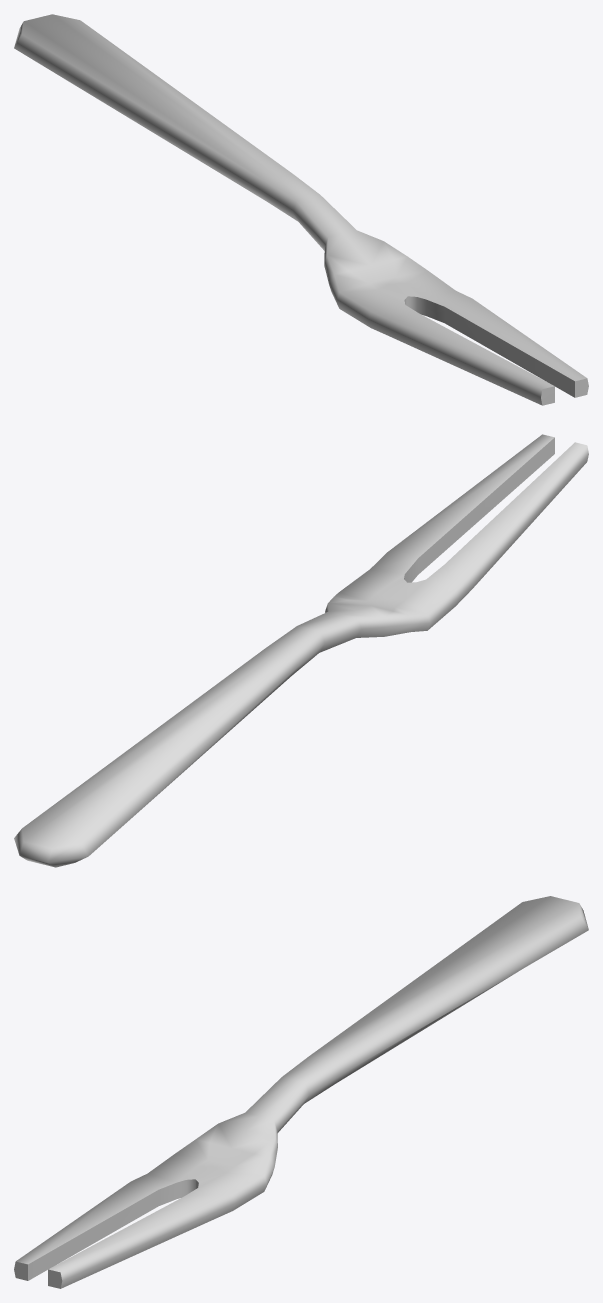
File: FruitFork_01.fbx
The picture shows the model from 3 angles, top to bottom: view 1: azimuth 30°, elevation 25°; view 2: azimuth 150°, elevation 25°; view 3: azimuth 330°, elevation 25°; orthographic projection.
Parts seen in each view (by area): view 1: FruitFork_01; view 2: FruitFork_01; view 3: FruitFork_01.
Part boxes in pixels (bbox=[...]): FruitFork_01: bbox=[14, 14, 588, 405]; FruitFork_01: bbox=[14, 434, 588, 867]; FruitFork_01: bbox=[14, 896, 588, 1288].
Bounding box in the file's own units: 0.0128 × 0.00612 × 0.1254.
